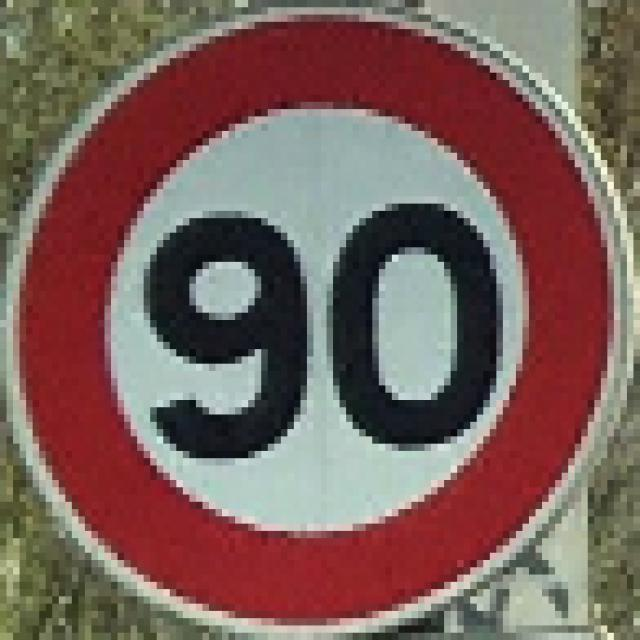speed_90: (0, 0, 633, 632)
